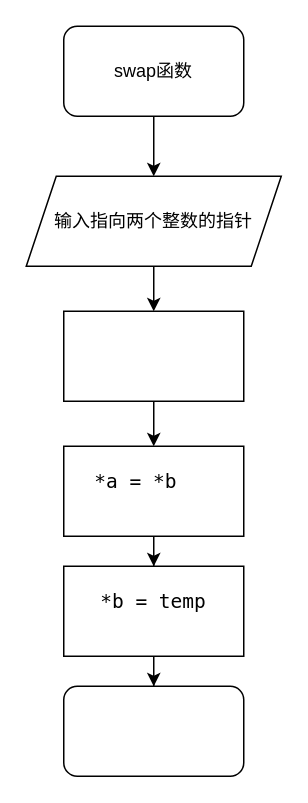
Image size: 308x803. Some labels were removed from this diagram. The box of each missing label's shape, as (x1, y1, x2, y2) in pixels:
temp = *a: (62, 310, 244, 401)
结束: (62, 685, 244, 776)
